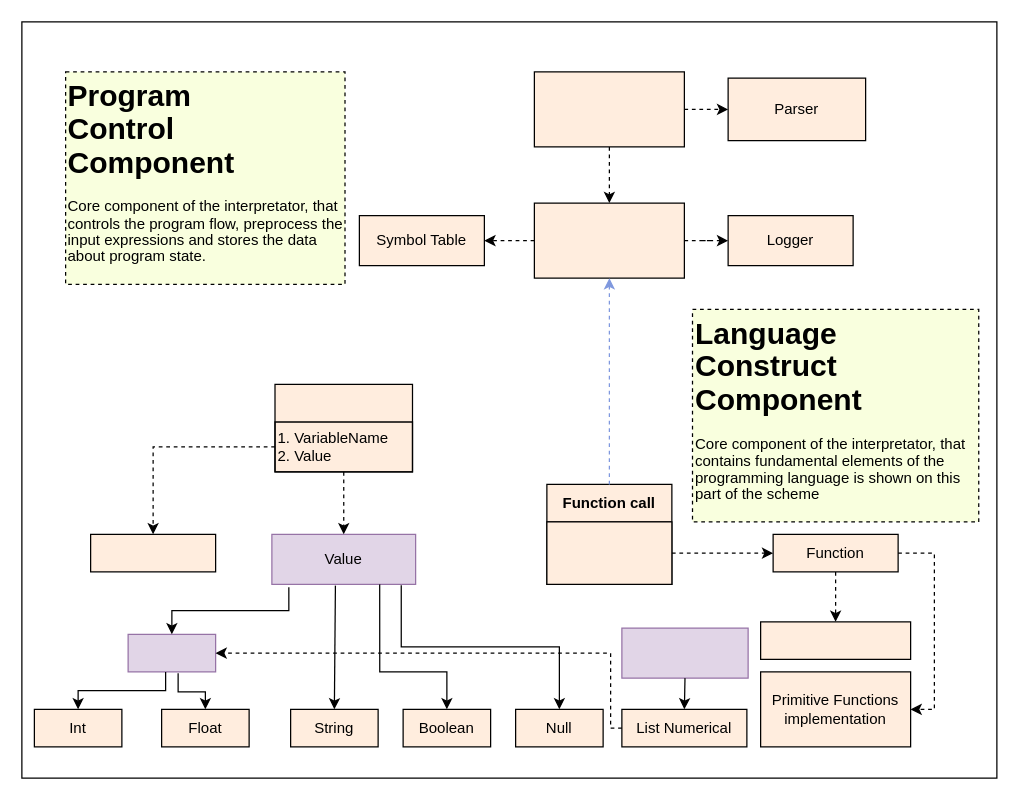
Image size: 1019x800. Some labels were removed from this diagram. Each missing label, with the centre of its shape:
1. Function 2. Arguments: the point at 609,552
Arguments Validator: the point at 835,640
Containers: the point at 684,652
Numerical: the point at 171,652
Program: the point at 608,109
Program state: the point at 608,240
Variable: the point at 343,427
VariableName: the point at 152,552
